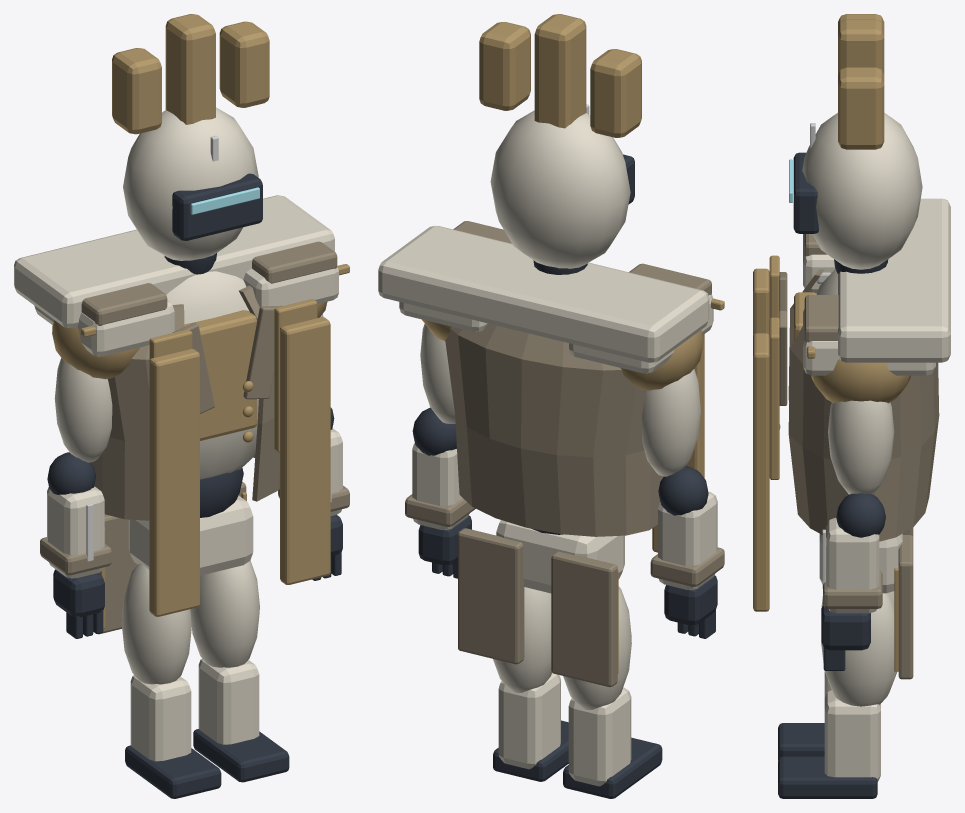
File: council.glb
3 renders of one model, left to right at view 1: azimuth 30°, elevation 25°; view 2: azimuth 150°, elevation 25°; view 3: azimuth 270°, elevation 25°, orthographic. The views are drawn at different scales.
Parts seen in each view (by area): view 1: Consular shoulder bridge, Consular long stole, Consular long stole.001, Helmet, Consular stole, Thigh L, Sternum shield, Thigh R, Three voices crown.001, Articulated thorax, Shin L, Shin R (+24 smaller); view 2: Consular stole, Consular shoulder bridge, Helmet, Consular stole articulated skirt R, Consular stole articulated skirt L, Three voices crown.001, Shin R, Shin L, Upper arm R, Three voices crown, Three voices crown.002, Pelvis (+19 smaller); view 3: Consular stole, Consular shoulder bridge, Helmet, Upper arm L, Consular long stole.001, Shin L, Thigh L, Three voices crown.002, Bracer L, Foot L, Shoulder L, Three voices crown.001 (+17 smaller).
Part boxes in pixels (left/top/right/bottom): Consular shoulder bridge: left=14, top=195, right=334, bottom=327; Consular long stole: left=149, top=349, right=199, bottom=616; Consular long stole.001: left=280, top=317, right=330, bottom=584; Helmet: left=123, top=107, right=258, bottom=260; Consular stole: left=91, top=285, right=279, bottom=520; Thigh L: left=190, top=560, right=259, bottom=667; Sternum shield: left=184, top=310, right=257, bottom=440; Thigh R: left=121, top=563, right=191, bottom=684; Three voices crown.001: left=165, top=14, right=215, bottom=124; Articulated thorax: left=166, top=271, right=258, bottom=479; Shin L: left=198, top=659, right=259, bottom=744; Shin R: left=130, top=675, right=191, bottom=761; Consular stole: left=445, top=323, right=663, bottom=536; Consular shoulder bridge: left=378, top=225, right=709, bottom=362; Helmet: left=490, top=110, right=630, bottom=268; Consular stole articulated skirt R: left=551, top=551, right=617, bottom=687; Consular stole articulated skirt L: left=458, top=528, right=524, bottom=664; Three voices crown.001: left=534, top=14, right=586, bottom=128; Shin R: left=568, top=687, right=631, bottom=786; Shin L: left=498, top=673, right=560, bottom=769; Upper arm R: left=641, top=369, right=700, bottom=476; Three voices crown: left=590, top=49, right=641, bottom=137; Three voices crown.002: left=479, top=22, right=530, bottom=110; Pelvis: left=496, top=520, right=624, bottom=593; Consular stole: left=788, top=269, right=939, bottom=541; Consular shoulder bridge: left=838, top=198, right=950, bottom=362; Helmet: left=802, top=113, right=922, bottom=269; Upper arm L: left=828, top=400, right=894, bottom=494; Consular long stole.001: left=753, top=333, right=769, bottom=611; Shin L: left=824, top=690, right=880, bottom=781; Thigh L: left=821, top=593, right=896, bottom=706; Three voices crown.002: left=838, top=67, right=884, bottom=149; Bracer L: left=826, top=517, right=879, bottom=613; Foot L: left=778, top=756, right=877, bottom=798; Shoulder L: left=811, top=359, right=910, bottom=403; Three voices crown.001: left=838, top=19, right=884, bottom=74.
Size of the model in its own units: 1 by 2.48 by 0.595.
